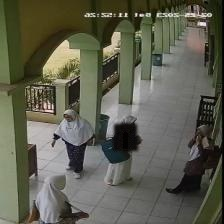Cadar_Niqab: (113, 110, 138, 150)
